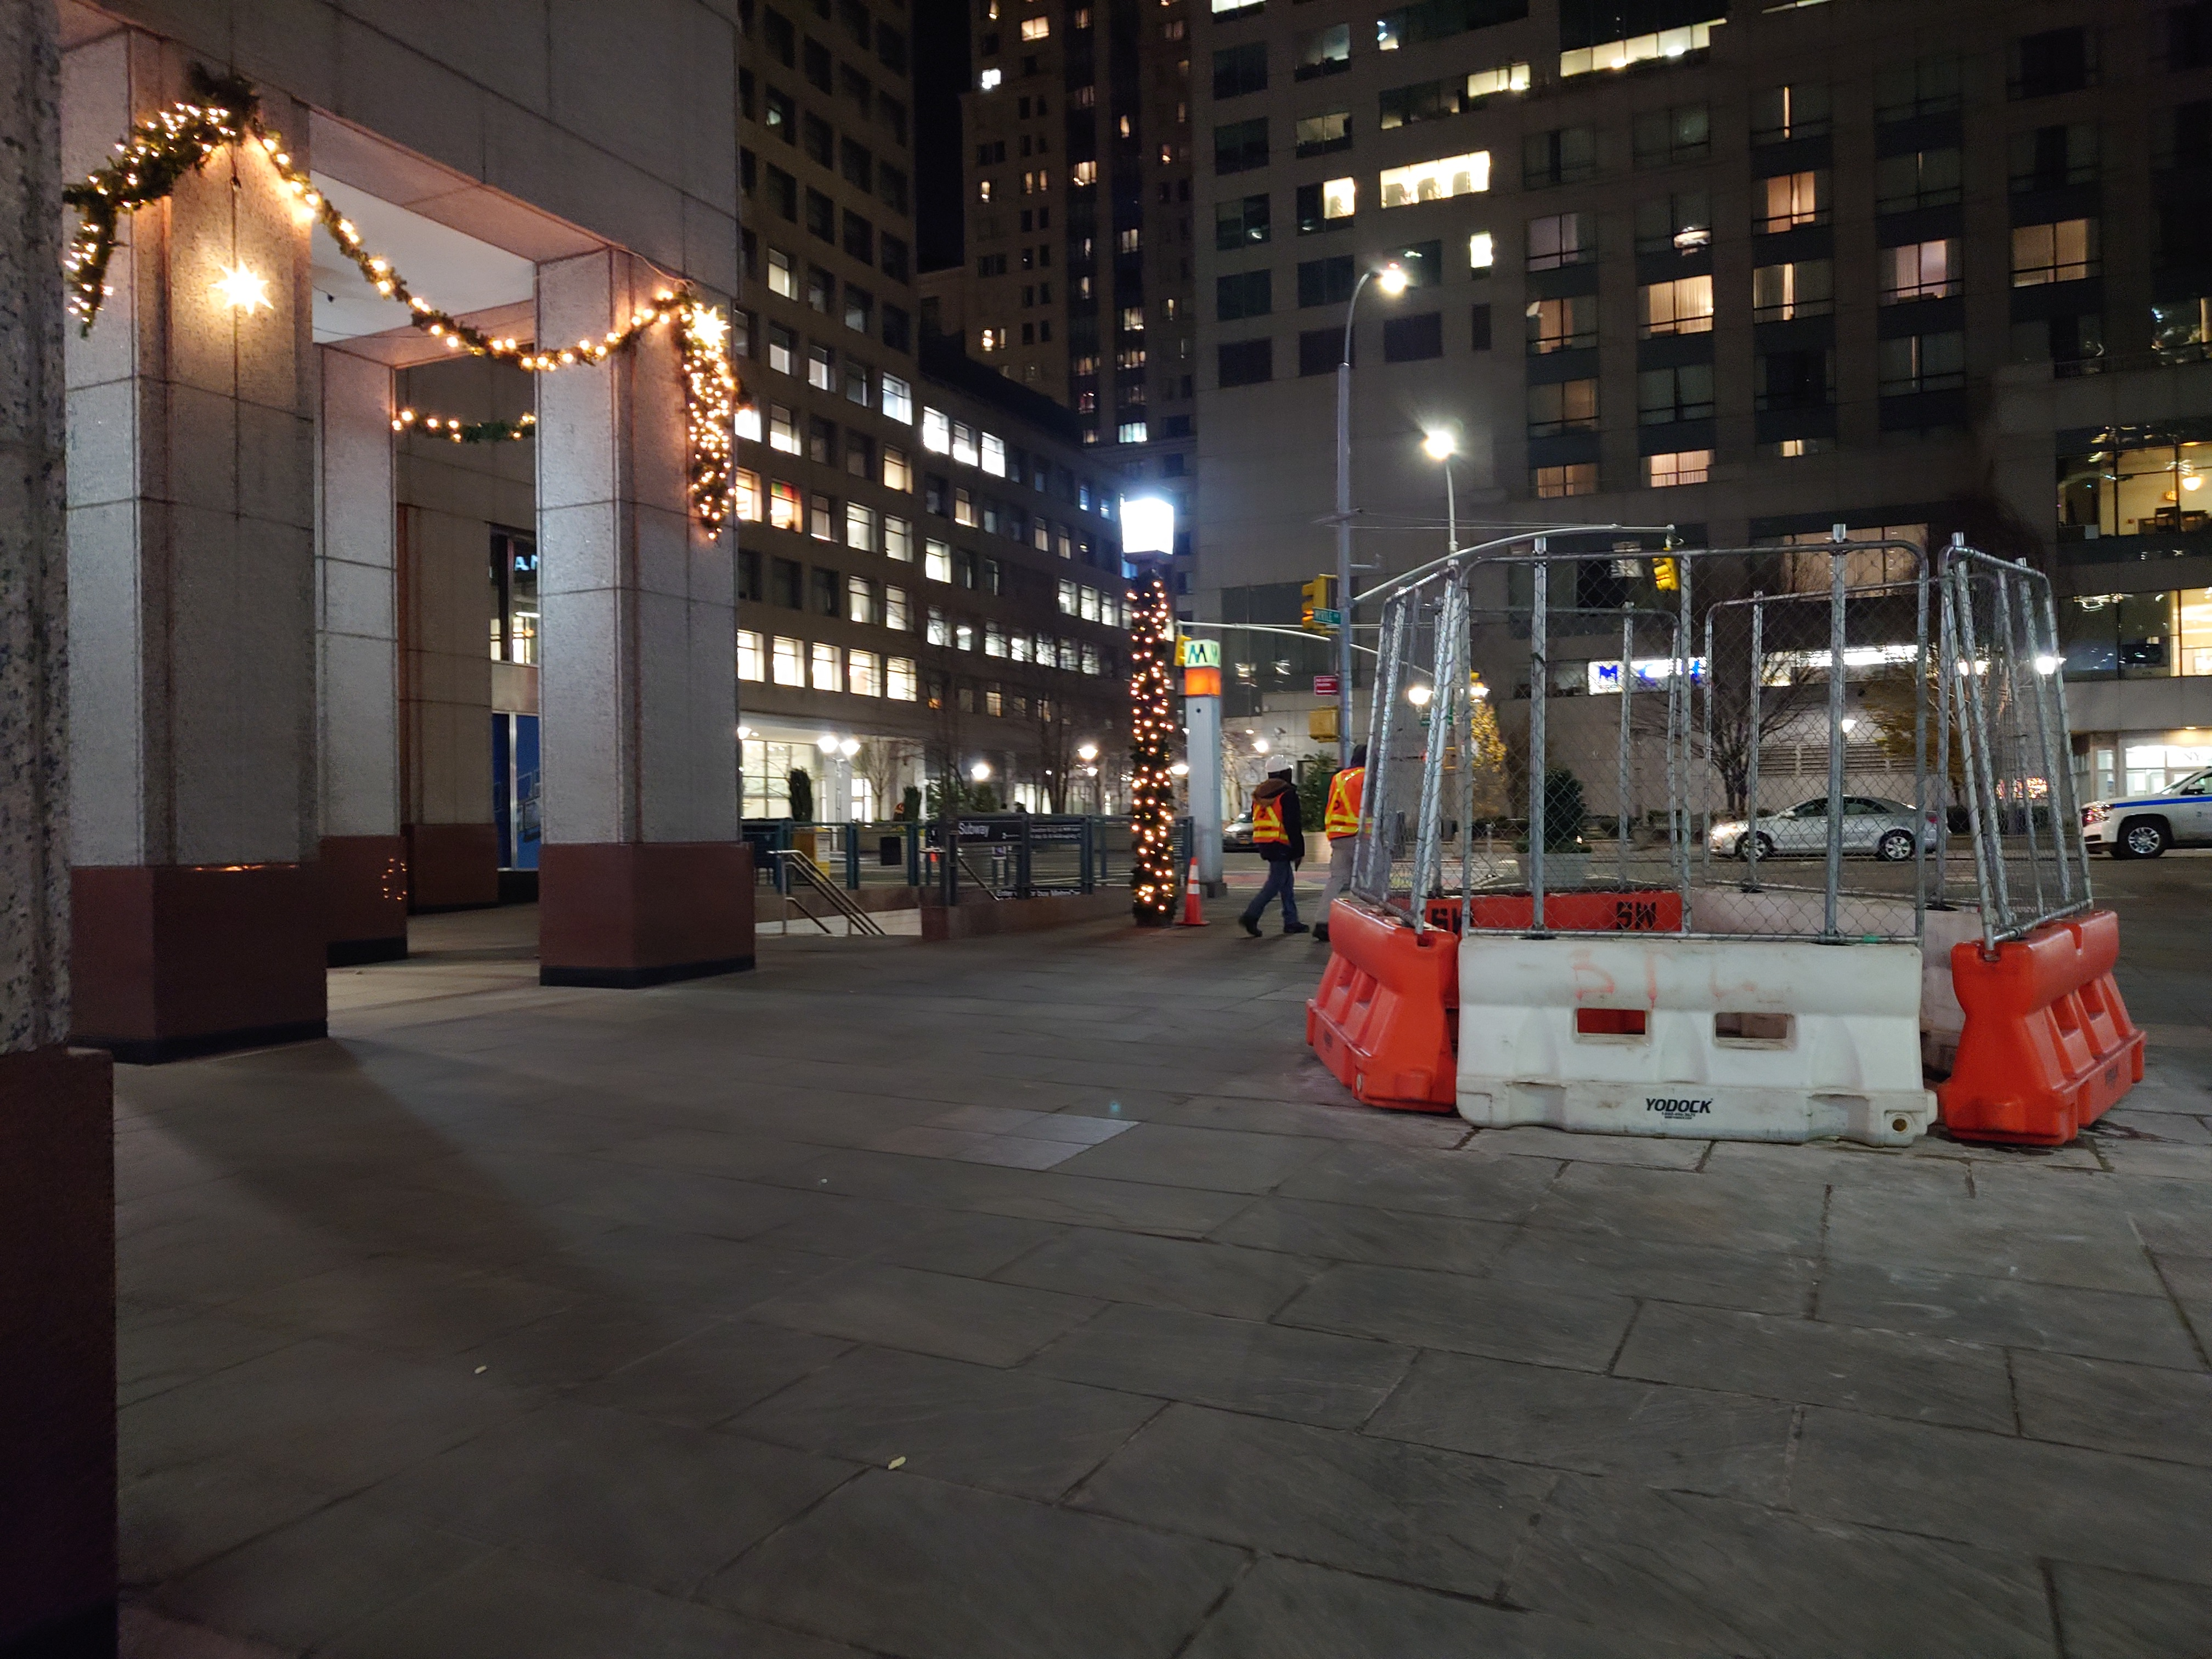car: (1708, 793, 1941, 861), (2086, 768, 2212, 861)
person: (1312, 745, 1380, 943), (1243, 757, 1309, 937)
